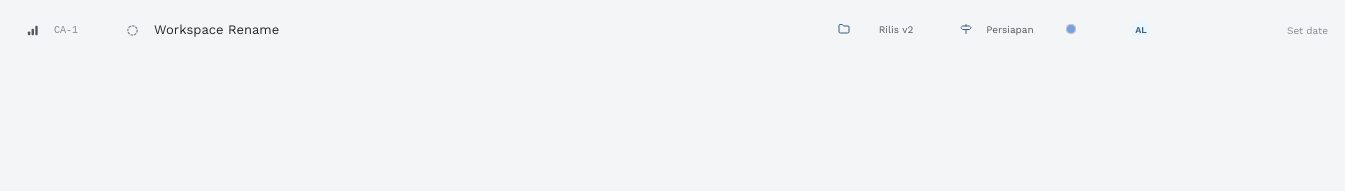
Test: TrackerRow › single-picker mutex › closes phase and opens priority
Click the button with aria-label "Phase: Persiapan" at (1002, 29), box [954,20,1050,38]
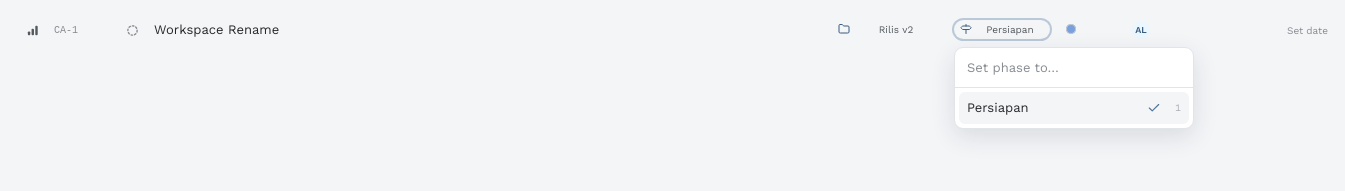
Now the dropdown labelled "Set phase to…" is shown, box [955,48,1193,88]
Click the button named "Priority: High" at (32, 30), box [20,18,44,42]
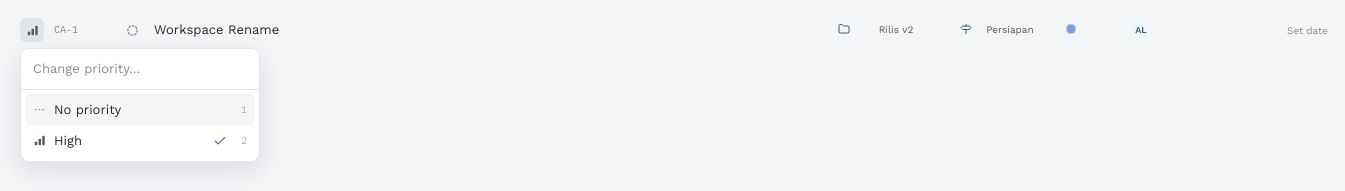
Expected: the dropdown labelled "Set phase to…" is not shown
Now the dropdown labelled "Change priority…" is shown, box [21,49,259,90]
